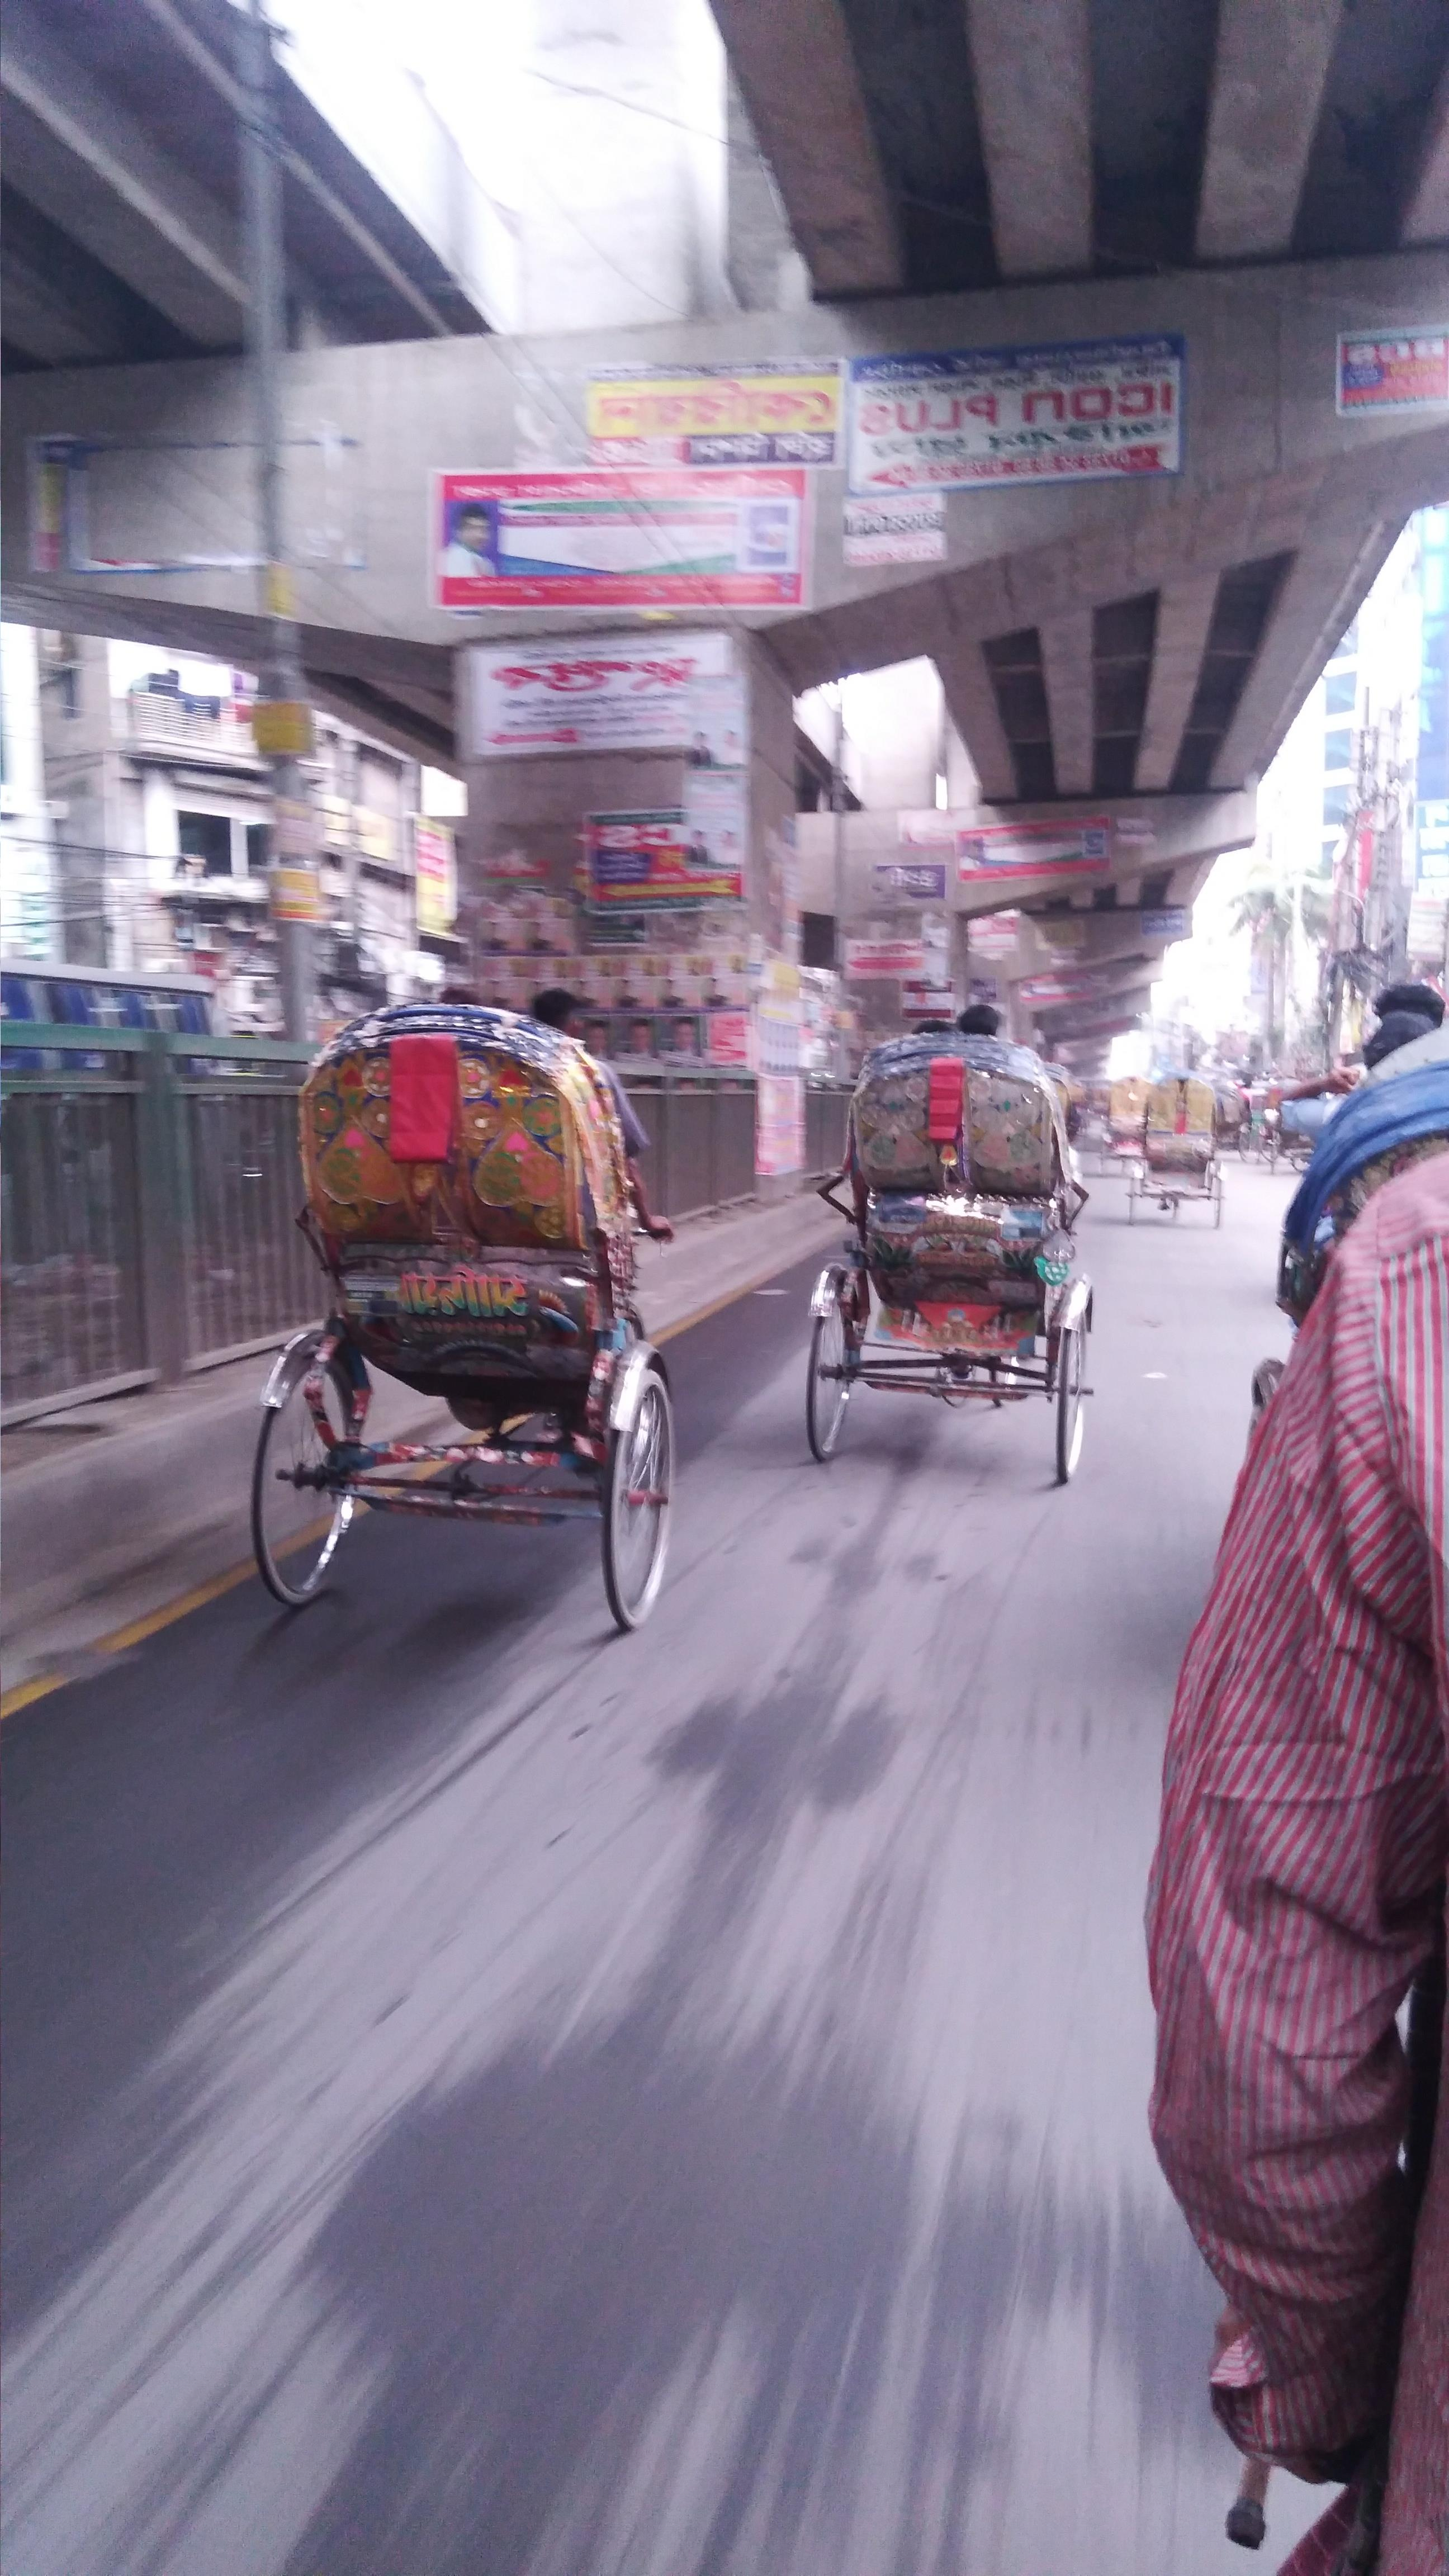Rickshaw: (226, 955, 692, 1683), (821, 959, 1136, 1536)
